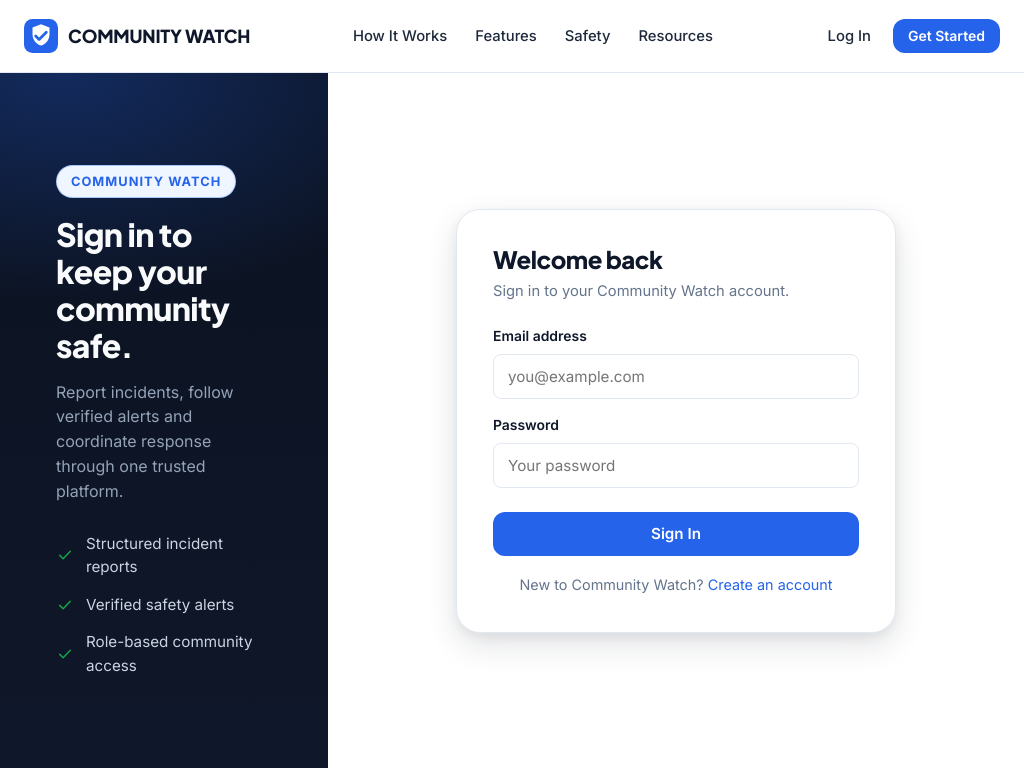
Test: app smoke › logs in and reaches the dashboard
Type "ada@example.com" into the field labelled "Email address".
click(676, 376); type("ada@example.com")  # box [493,354,859,399]
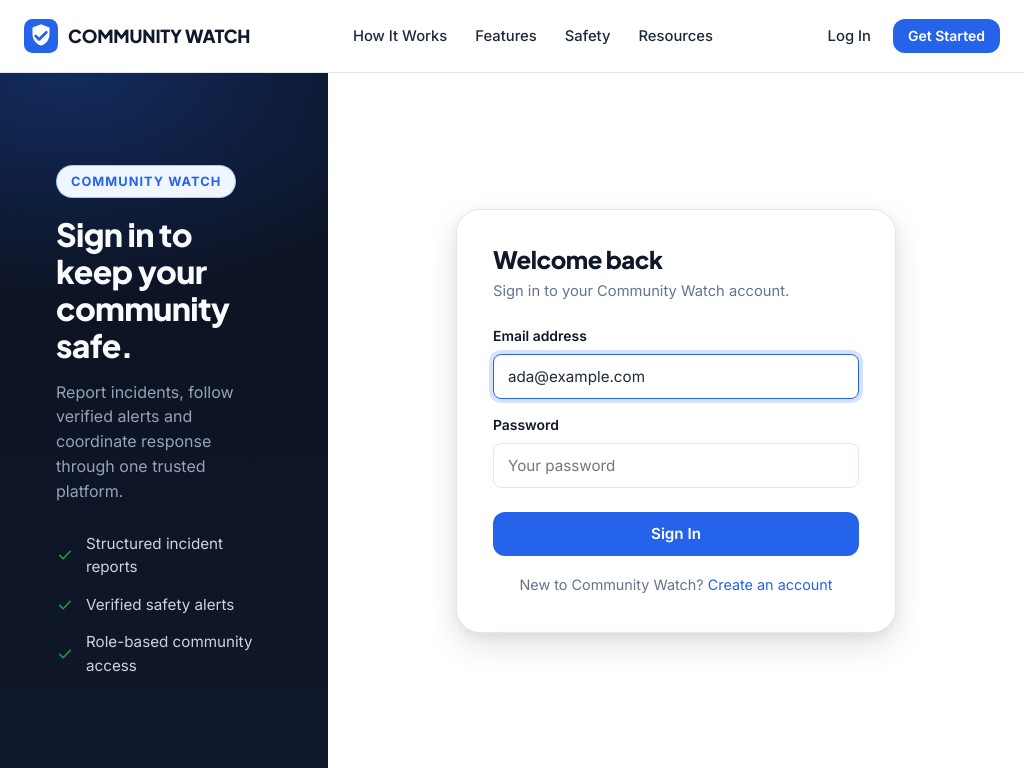
Type "secret" into the password field labelled "Password".
click(676, 465); type("secret")  # box [493,442,859,488]
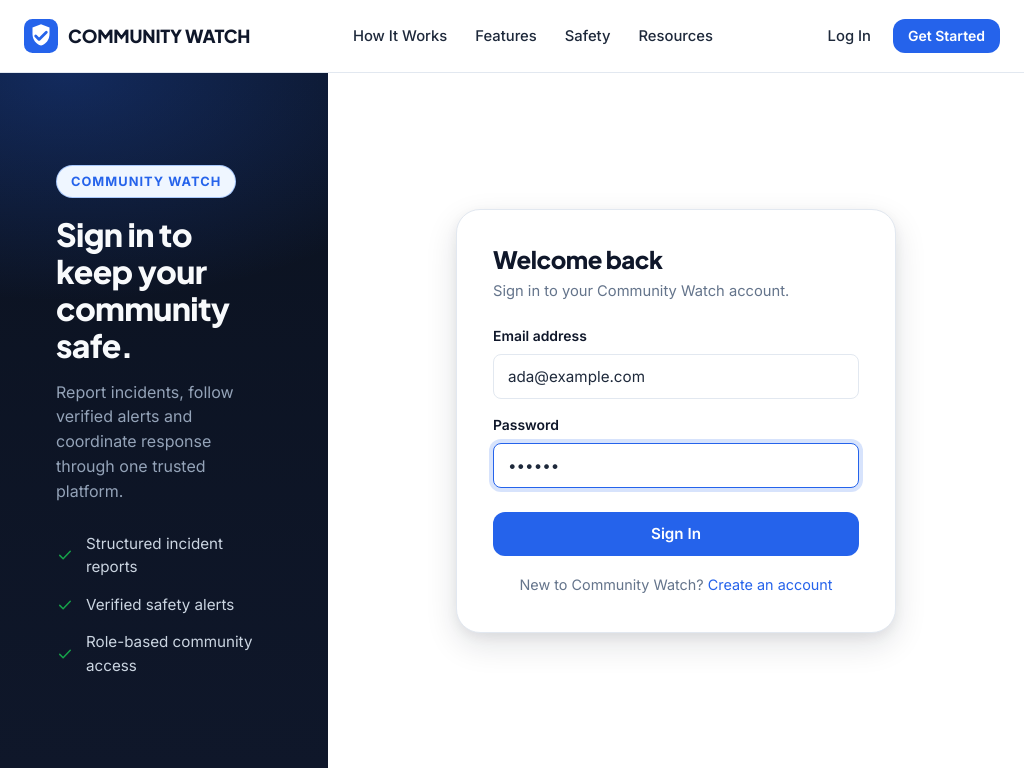
Click the button "Sign In".
click(676, 534)  # box [493,512,859,556]
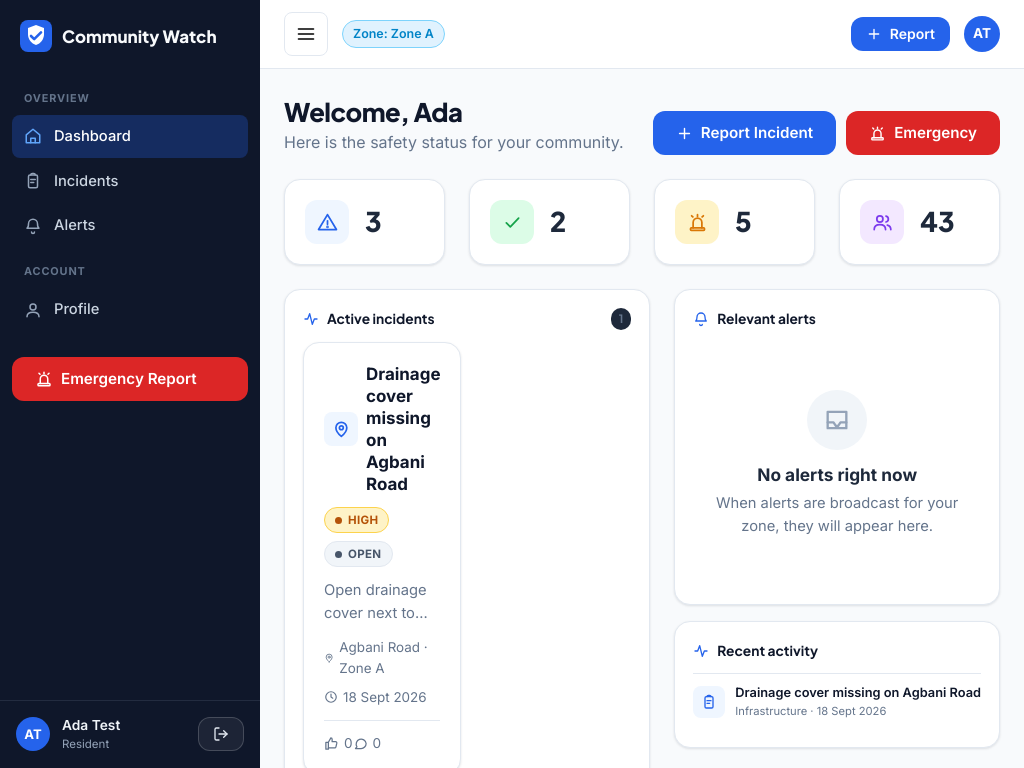
Expected: the heading "Welcome, Ada" is shown, [284,95,462,128]
